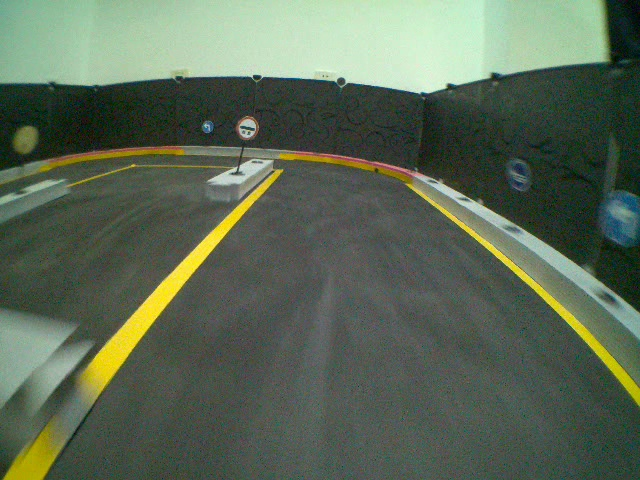Check: (235, 115, 259, 140)
horn: (508, 158, 534, 192)
turn: (201, 120, 214, 135)
